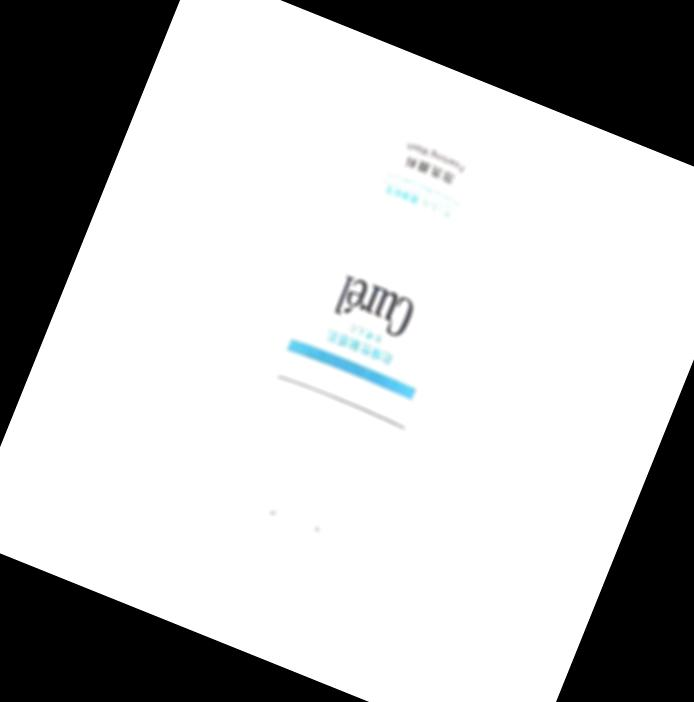cosmetic: (160, 64, 562, 651)
